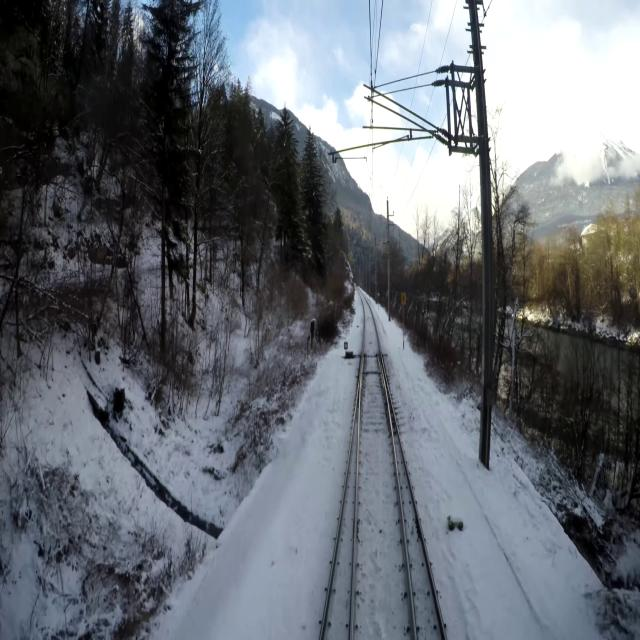rail-track: (353, 295, 410, 639), (391, 411, 442, 639), (323, 416, 356, 639)
